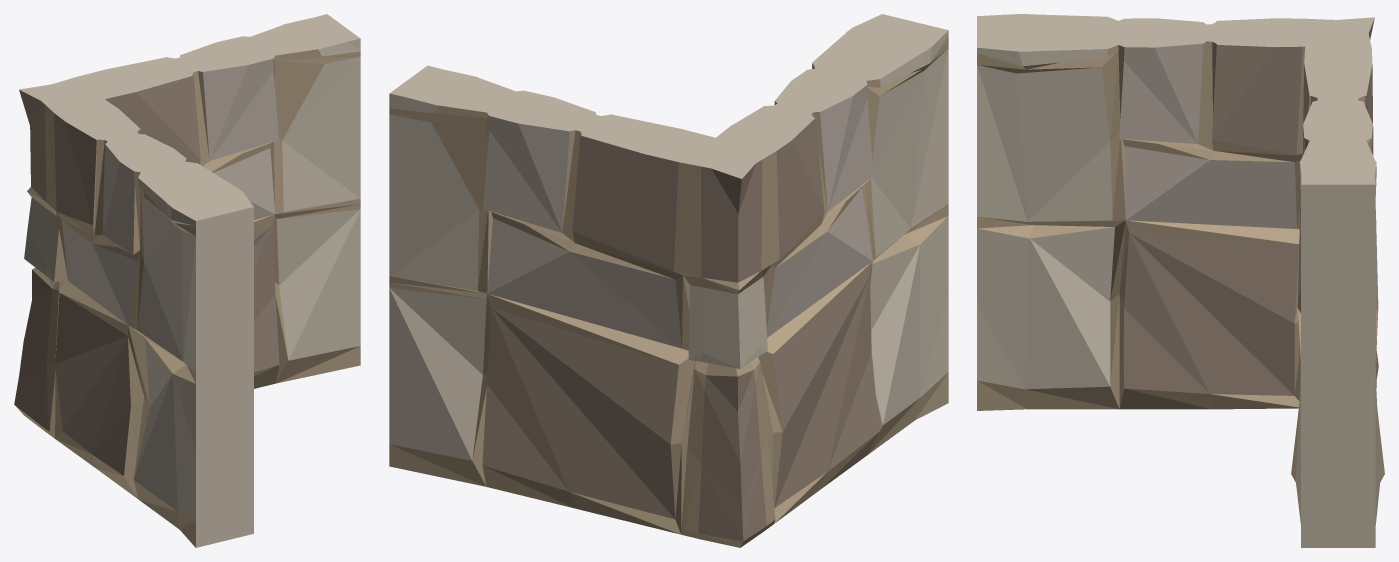
Rendered from RG-Dungeon_Corner-small_wall-02.fbx.
3 renders of one model, left to right at view 1: azimuth 30°, elevation 25°; view 2: azimuth 150°, elevation 25°; view 3: azimuth 270°, elevation 25°, orthographic. The views are drawn at different scales.
Visible parts, largest first — view 1: RG-Dungeon_Corner-small_wall-02; view 2: RG-Dungeon_Corner-small_wall-02; view 3: RG-Dungeon_Corner-small_wall-02.
Part boxes in pixels (x1=…): RG-Dungeon_Corner-small_wall-02: x1=14, y1=14, x2=360, y2=547; RG-Dungeon_Corner-small_wall-02: x1=389, y1=14, x2=948, y2=547; RG-Dungeon_Corner-small_wall-02: x1=977, y1=14, x2=1384, y2=547.
Size of the model in its own units: 10.18 by 10.05 by 10.23.
